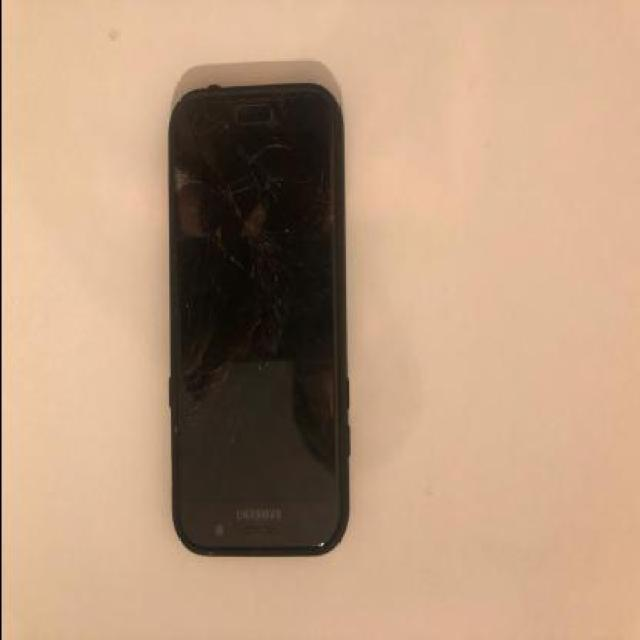phone: (168, 80, 344, 553)
